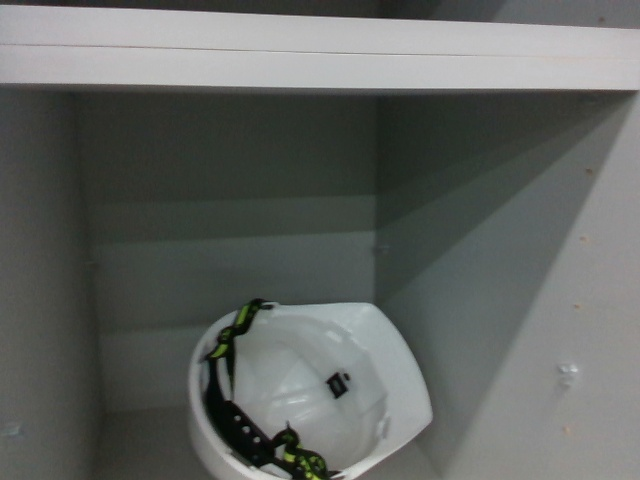helmet: (181, 291, 440, 480)
